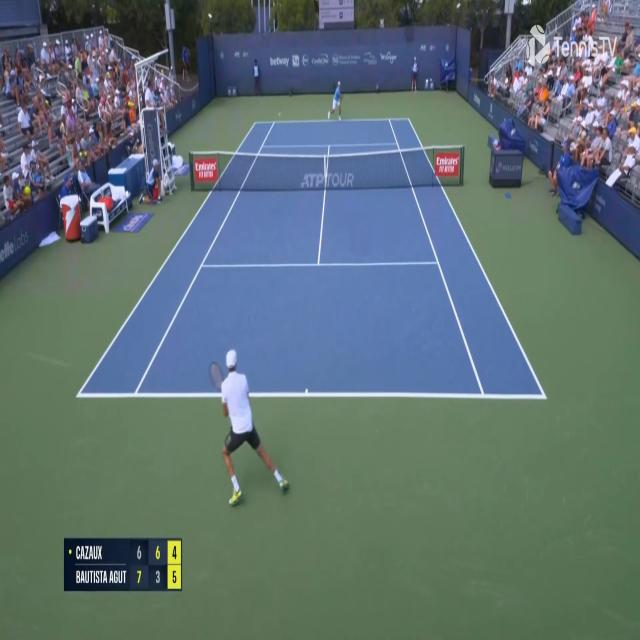tennis-player: (214, 345, 292, 512), (326, 78, 345, 124)
